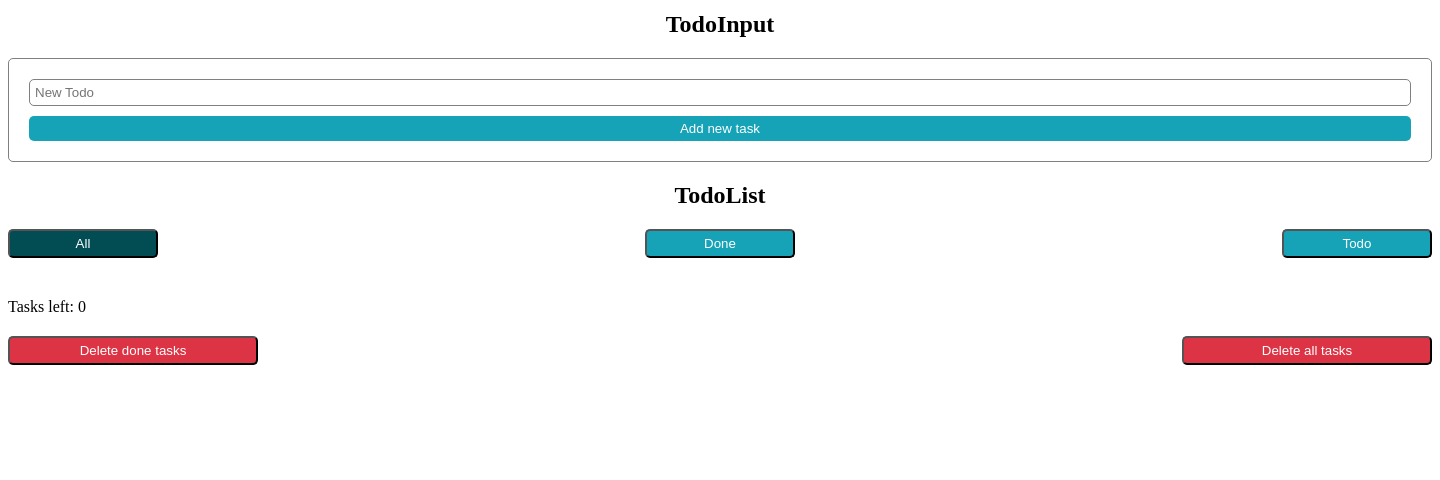
Input Component › adds task on button click
The image size is (1440, 480).
Type "New Task" into the field with placeholder "New Todo".
click(720, 92); type("New Task")  # box [29,79,1411,106]
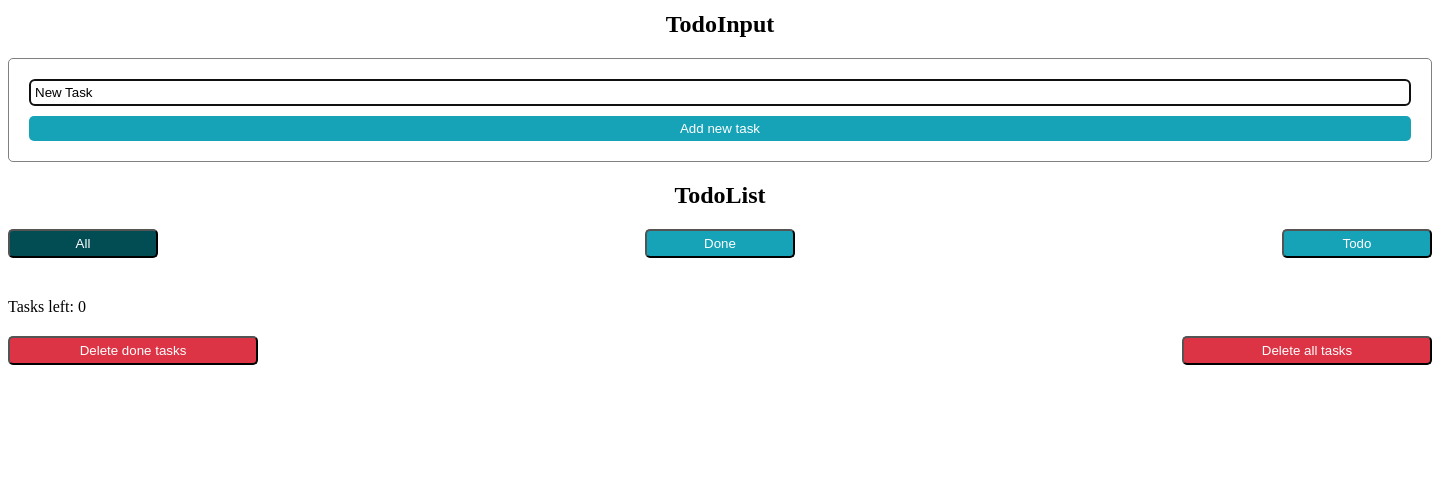
Click the button "Add new task".
click(720, 128)  # box [29,116,1411,141]
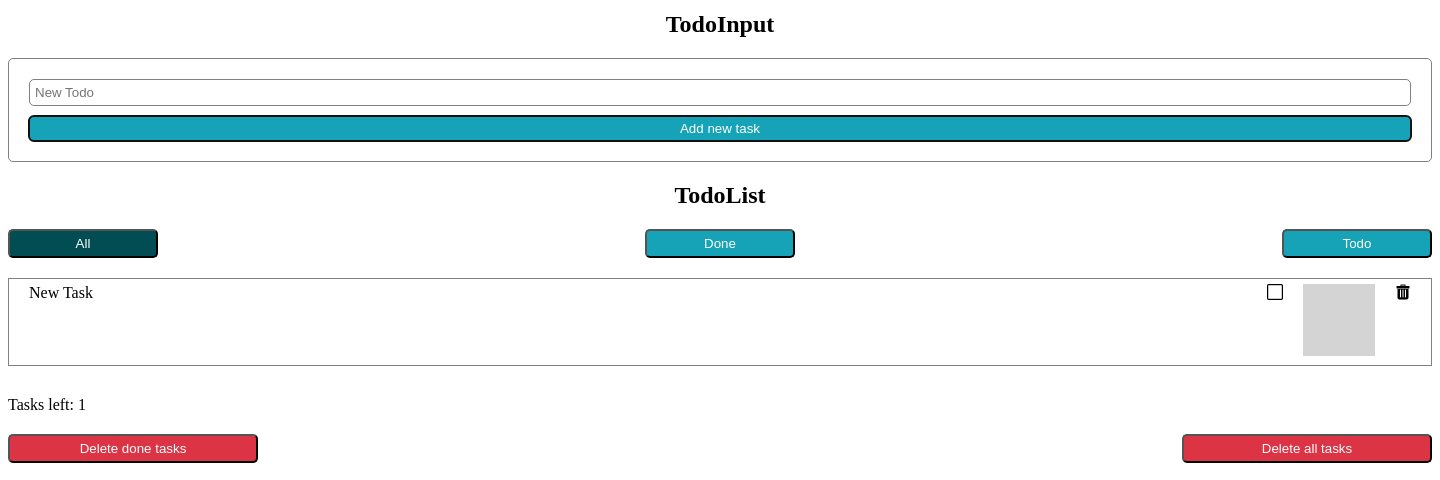
expect the field with placeholder "New Todo" is empty: met, box [29,79,1411,106]
expect the text "New Task" is shown: met, box [29,284,93,301]
